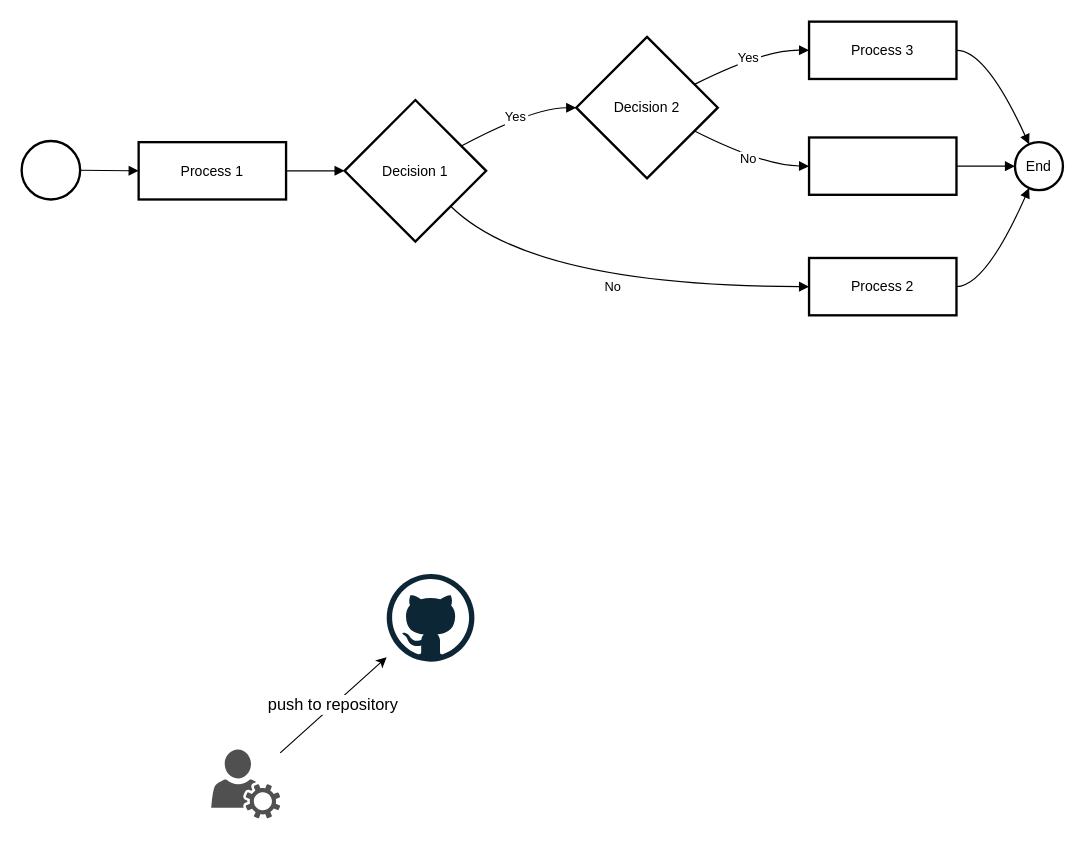
Image size: 1083x866. Some labels were removed from this diagram. The shapes that lost their labels are listed below. From the top down, each one's box as (x1, y1, x2, y2) in pixels, then its label:
(20, 139, 81, 200): Start
(807, 136, 957, 195): Process 4
(211, 749, 280, 818): developer
